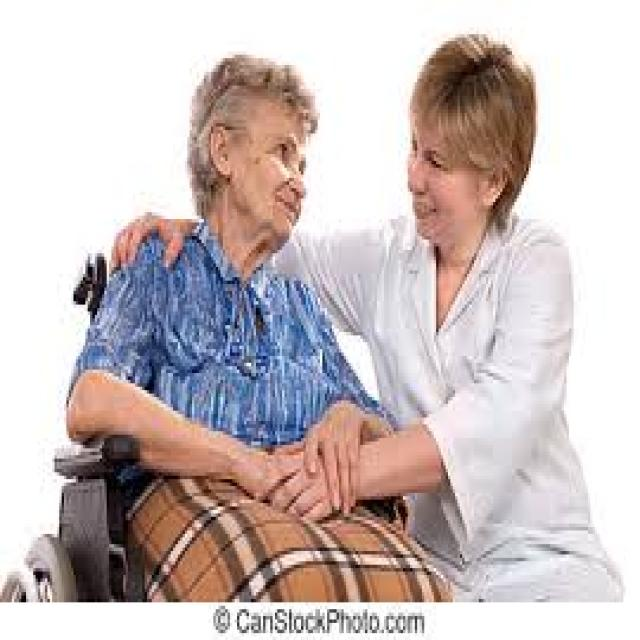wheelchairs: (4, 257, 420, 599)
